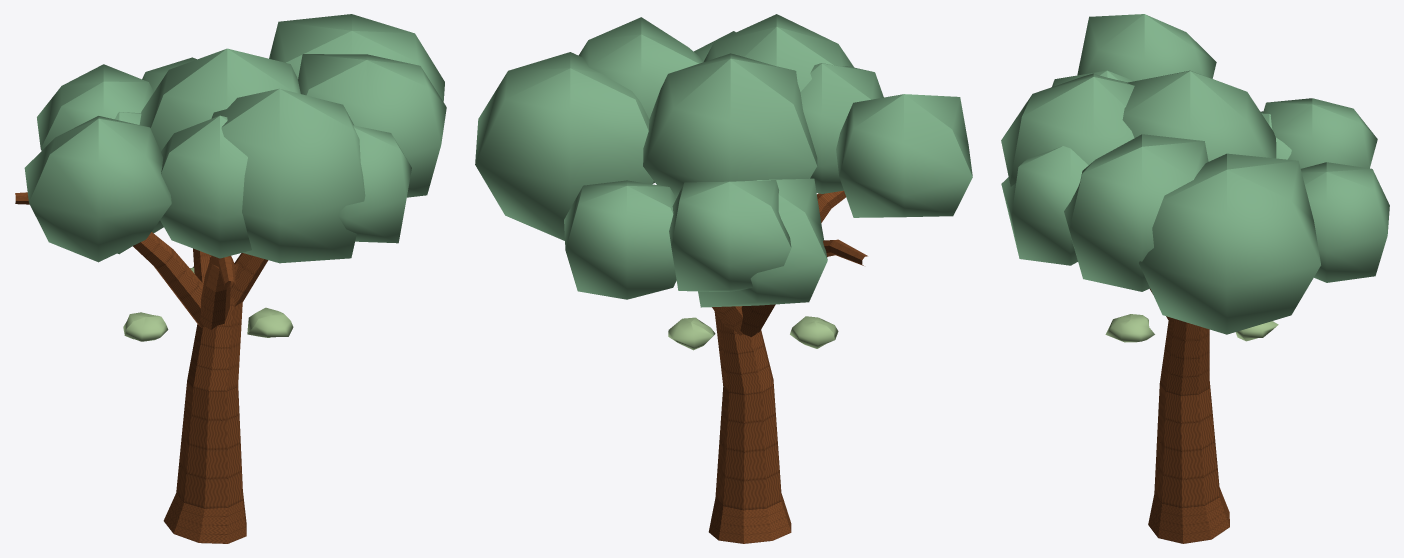
The model's file is ancient-oak.glb.
3 renders of one model, left to right at view 1: azimuth 30°, elevation 25°; view 2: azimuth 150°, elevation 25°; view 3: azimuth 270°, elevation 25°, orthographic. The views are drawn at different scales.
Parts seen in each view (by area): view 1: oak-ancient; view 2: oak-ancient; view 3: oak-ancient.
Boxes of the visible parts, x1=… form: oak-ancient: x1=15, y1=14, x2=446, y2=543; oak-ancient: x1=475, y1=14, x2=972, y2=543; oak-ancient: x1=1001, y1=14, x2=1389, y2=543.
Bounding box in the file's own units: 6.59 × 6.54 × 4.95.
3 materials, 1 textured.
